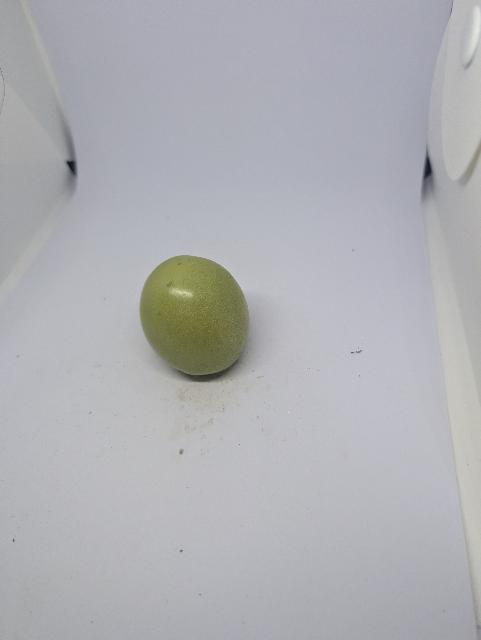green: (126, 248, 271, 405)
